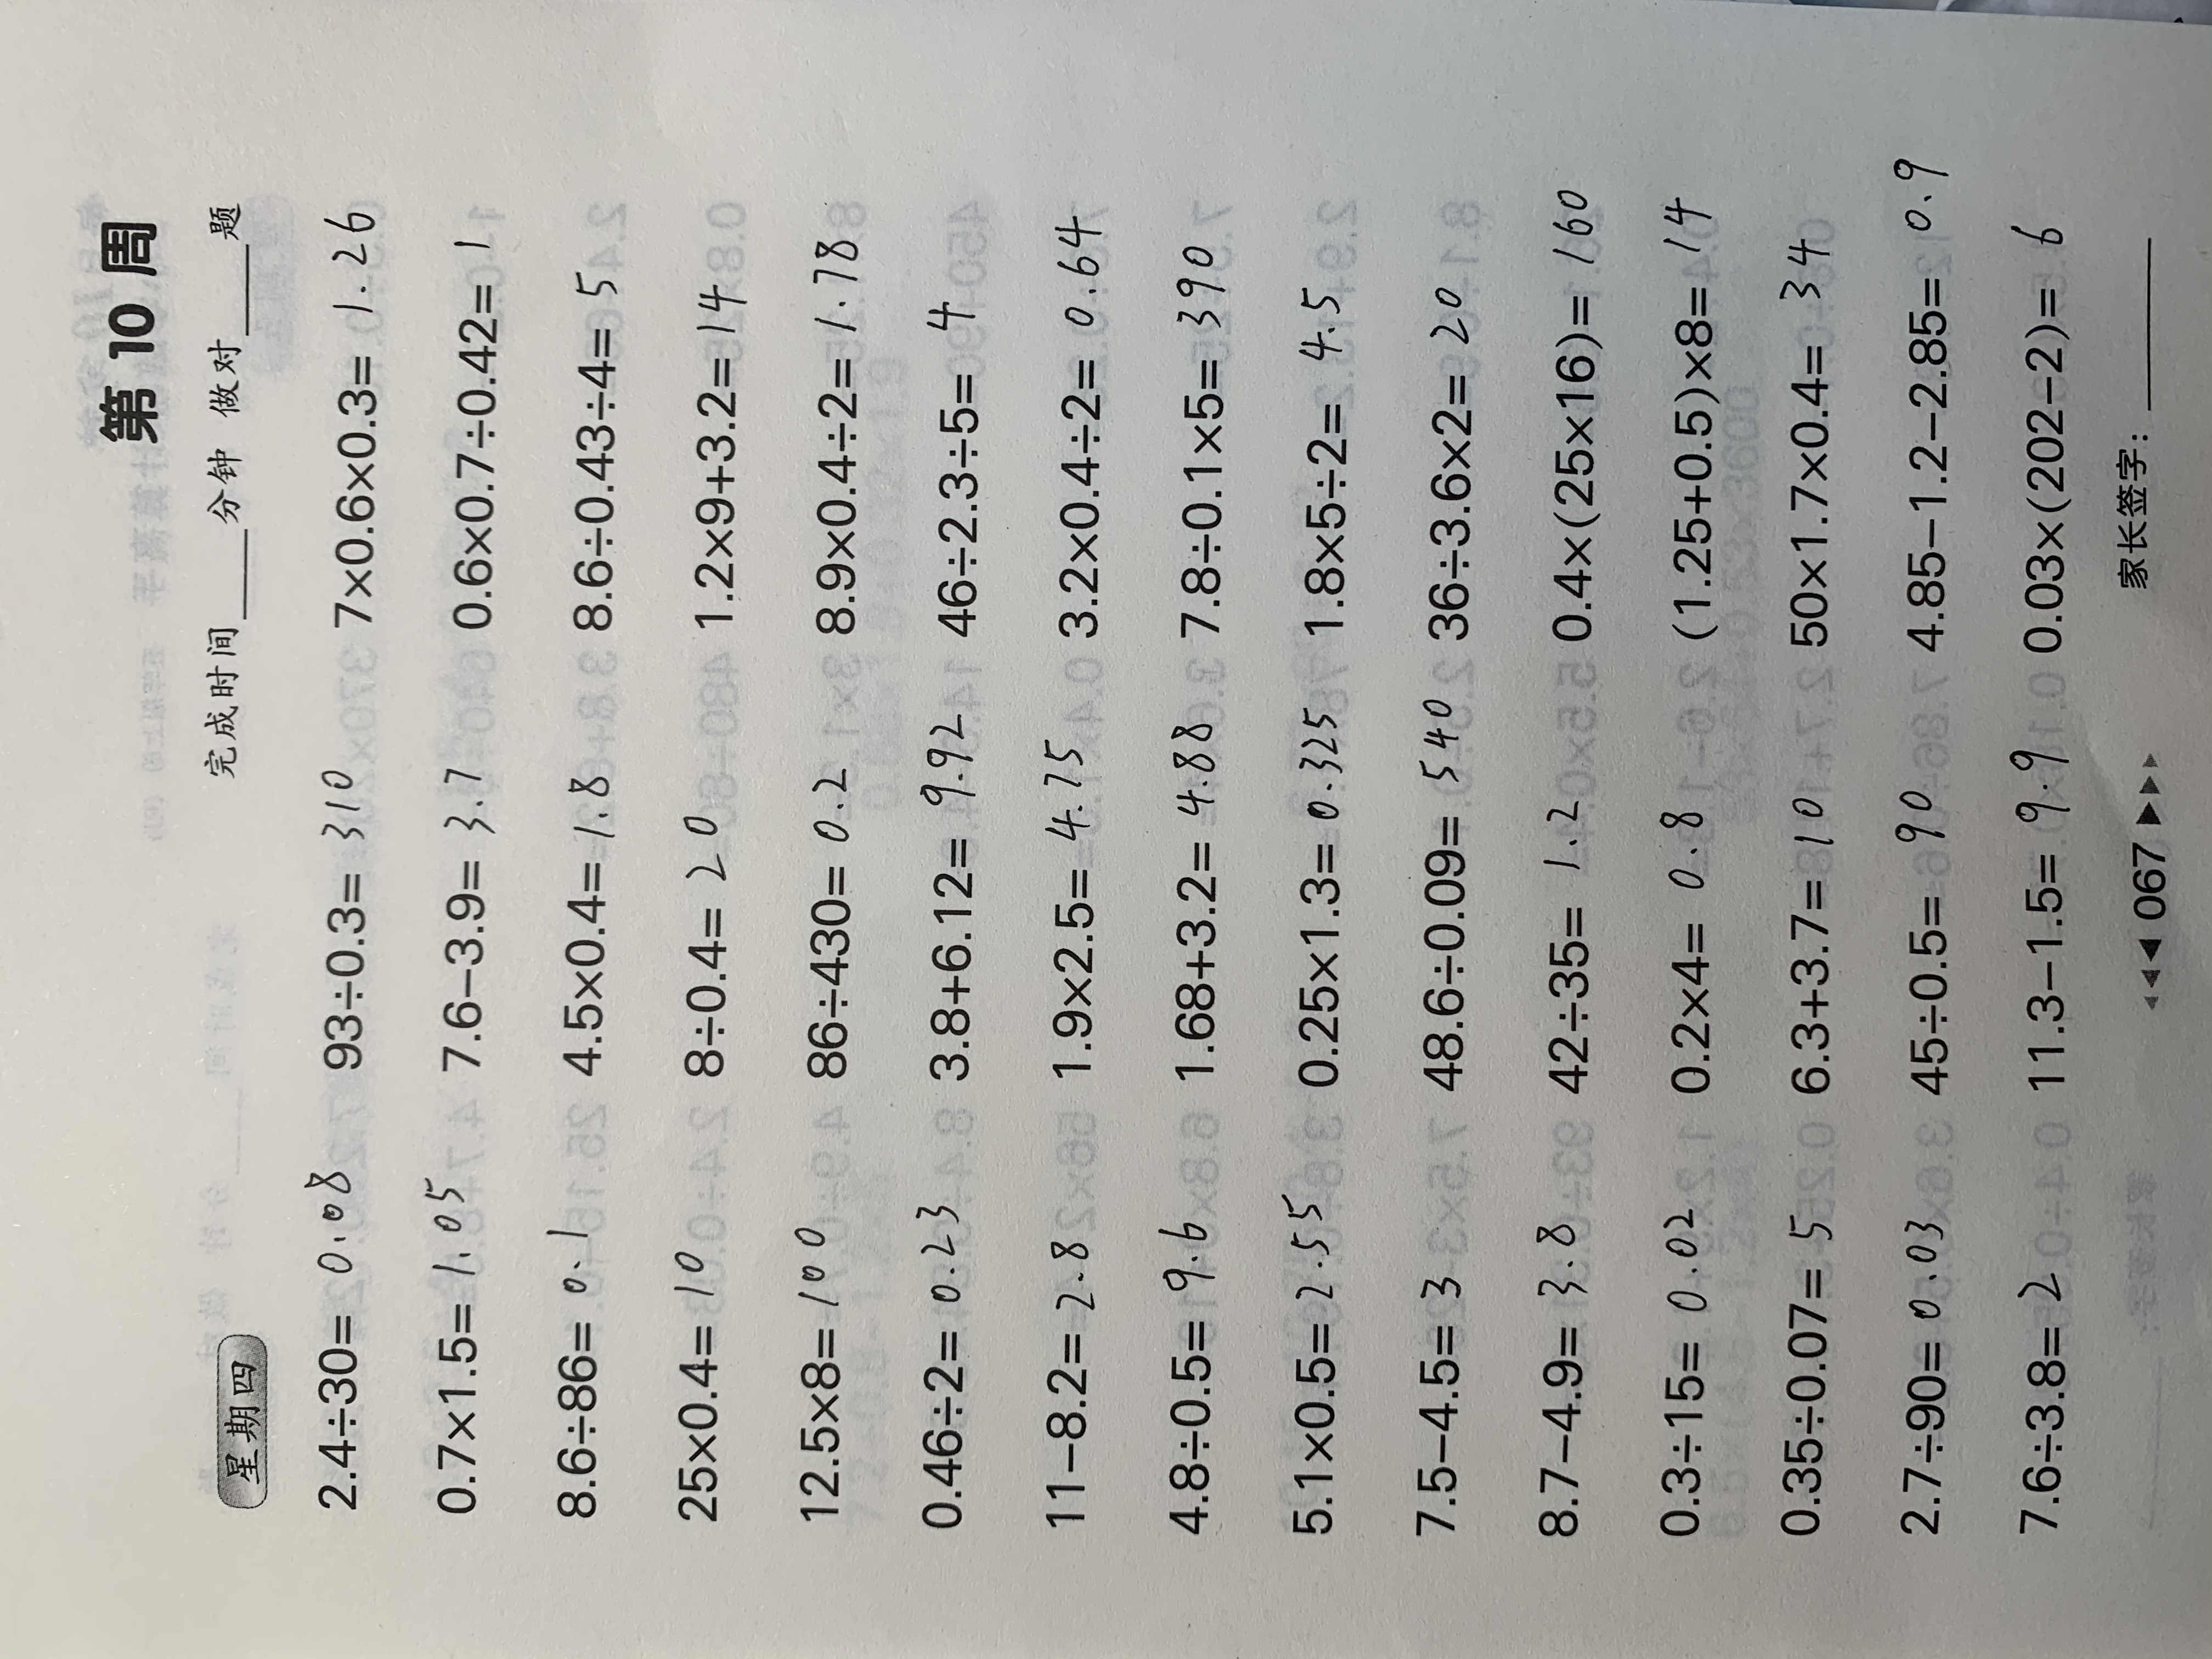equation: (1331, 1412, 2017, 1471), (1338, 1155, 1972, 1209), (1357, 234, 1942, 291), (740, 1049, 1291, 1110), (1341, 1243, 1961, 1297), (1324, 1504, 1935, 1558), (1350, 784, 1932, 840), (1350, 599, 1958, 652), (1338, 1328, 1909, 1382), (759, 683, 1275, 741), (752, 960, 1275, 1016), (1338, 1058, 1843, 1115), (1350, 875, 1902, 927), (185, 220, 657, 277), (1357, 331, 1902, 380), (152, 957, 631, 1011), (152, 861, 597, 918), (1357, 509, 1843, 561), (752, 1504, 1216, 1558), (1346, 690, 1822, 742), (756, 871, 1264, 920), (148, 1145, 597, 1199), (148, 1236, 611, 1288), (759, 777, 1238, 828), (158, 678, 620, 730), (178, 314, 653, 364), (1350, 967, 1839, 1016), (152, 1417, 597, 1469), (733, 1412, 1172, 1464), (1353, 423, 1858, 469), (158, 775, 571, 830), (148, 1330, 604, 1378), (169, 404, 587, 457), (770, 324, 1198, 375), (770, 232, 1198, 282), (737, 1148, 1155, 1199), (763, 416, 1191, 465), (756, 598, 1198, 645), (737, 1237, 1143, 1288), (169, 589, 590, 636), (740, 1331, 1165, 1377), (155, 1507, 531, 1558), (763, 505, 1143, 554), (169, 498, 557, 545), (152, 1054, 524, 1101)
